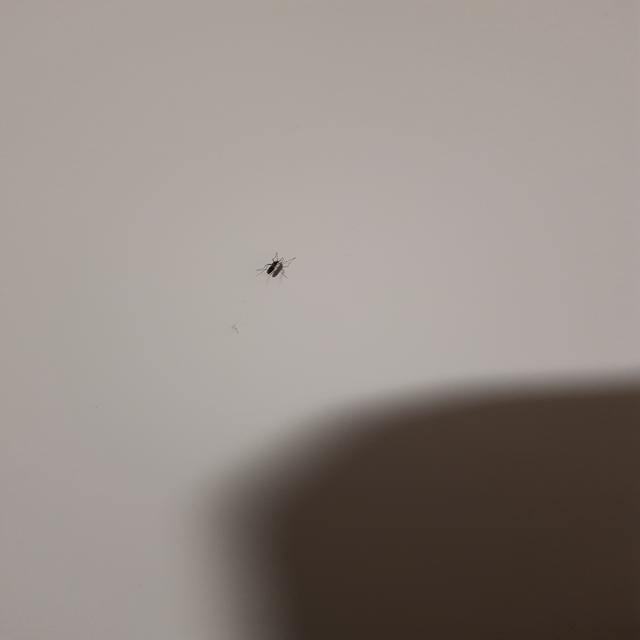albopictus: (251, 250, 300, 283)
